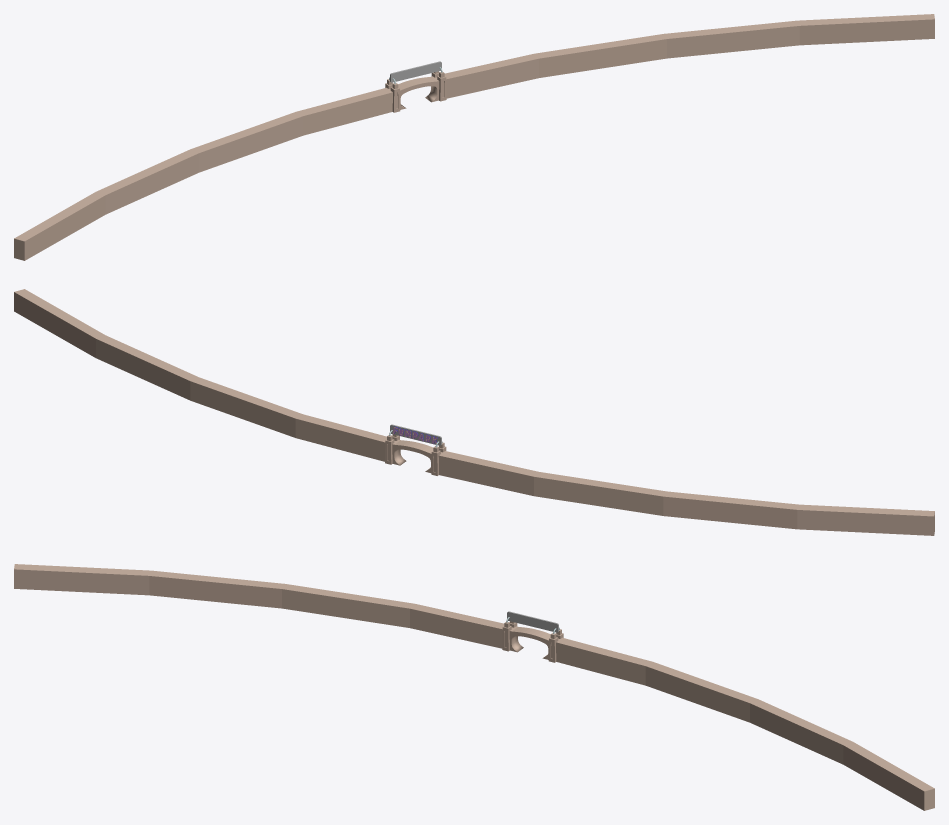
The model's file is ParkBarrier.fbx.
3 views of the same model, one above another, from view 1: azimuth 30°, elevation 25°; view 2: azimuth 150°, elevation 25°; view 3: azimuth 330°, elevation 25° (orthographic).
Visible parts, largest first — view 1: ParkBarrier, ParkBarrier.001, Cube, Cube.006; view 2: ParkBarrier, ParkBarrier.001, Cube; view 3: ParkBarrier, ParkBarrier.001, Cube, Cube.006.
Part boxes in pixels (x1,y1,x2,y2): ParkBarrier: [14, 14, 934, 260]; ParkBarrier.001: [398, 76, 439, 109]; Cube: [385, 71, 446, 112]; Cube.006: [390, 61, 441, 82]; ParkBarrier: [14, 289, 934, 535]; ParkBarrier.001: [392, 439, 433, 472]; Cube: [385, 434, 446, 475]; ParkBarrier: [14, 564, 934, 810]; ParkBarrier.001: [509, 626, 550, 659]; Cube: [502, 621, 563, 662]; Cube.006: [507, 611, 558, 632].
Size of the model in its own units: 4180 by 539 by 154.
